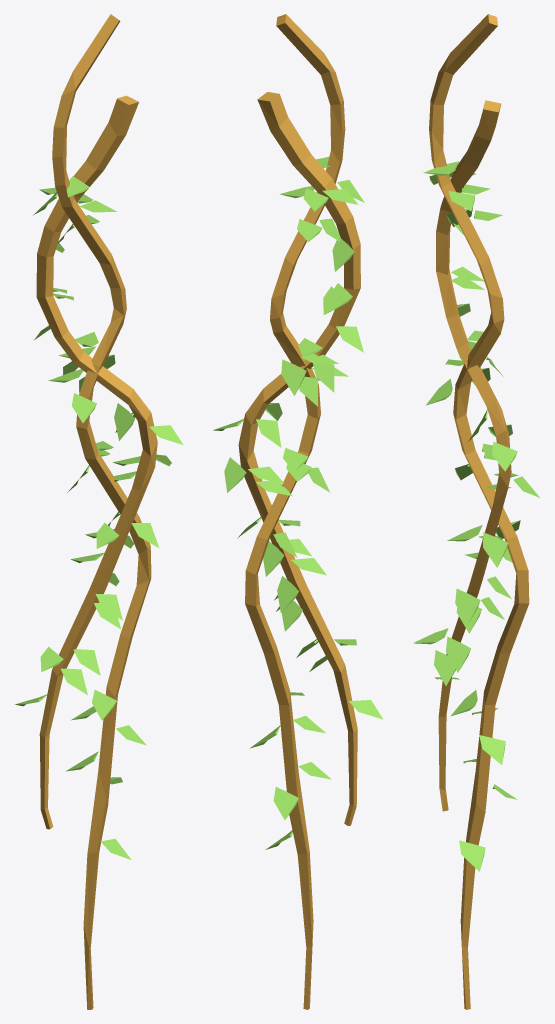
File: ivy_01.fbx
3 views of the same model, side by side, from view 1: azimuth 30°, elevation 25°; view 2: azimuth 210°, elevation 25°; view 3: azimuth 330°, elevation 25° (orthographic).
Parts seen in each view (by area): view 1: ivy_01; view 2: ivy_01; view 3: ivy_01.
Boxes of the visible parts, x1,y1,x2,y2 form: ivy_01: [14, 14, 183, 1009]; ivy_01: [213, 14, 383, 1009]; ivy_01: [413, 14, 539, 1009].
Bounding box in the file's own units: 15.15 × 113 × 11.63.
